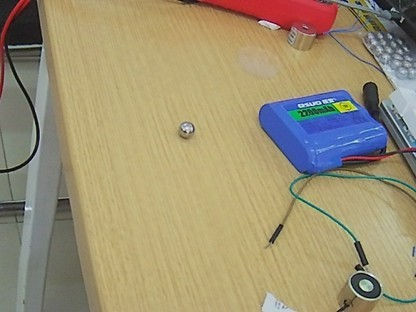ironball: (172, 115, 197, 141)
